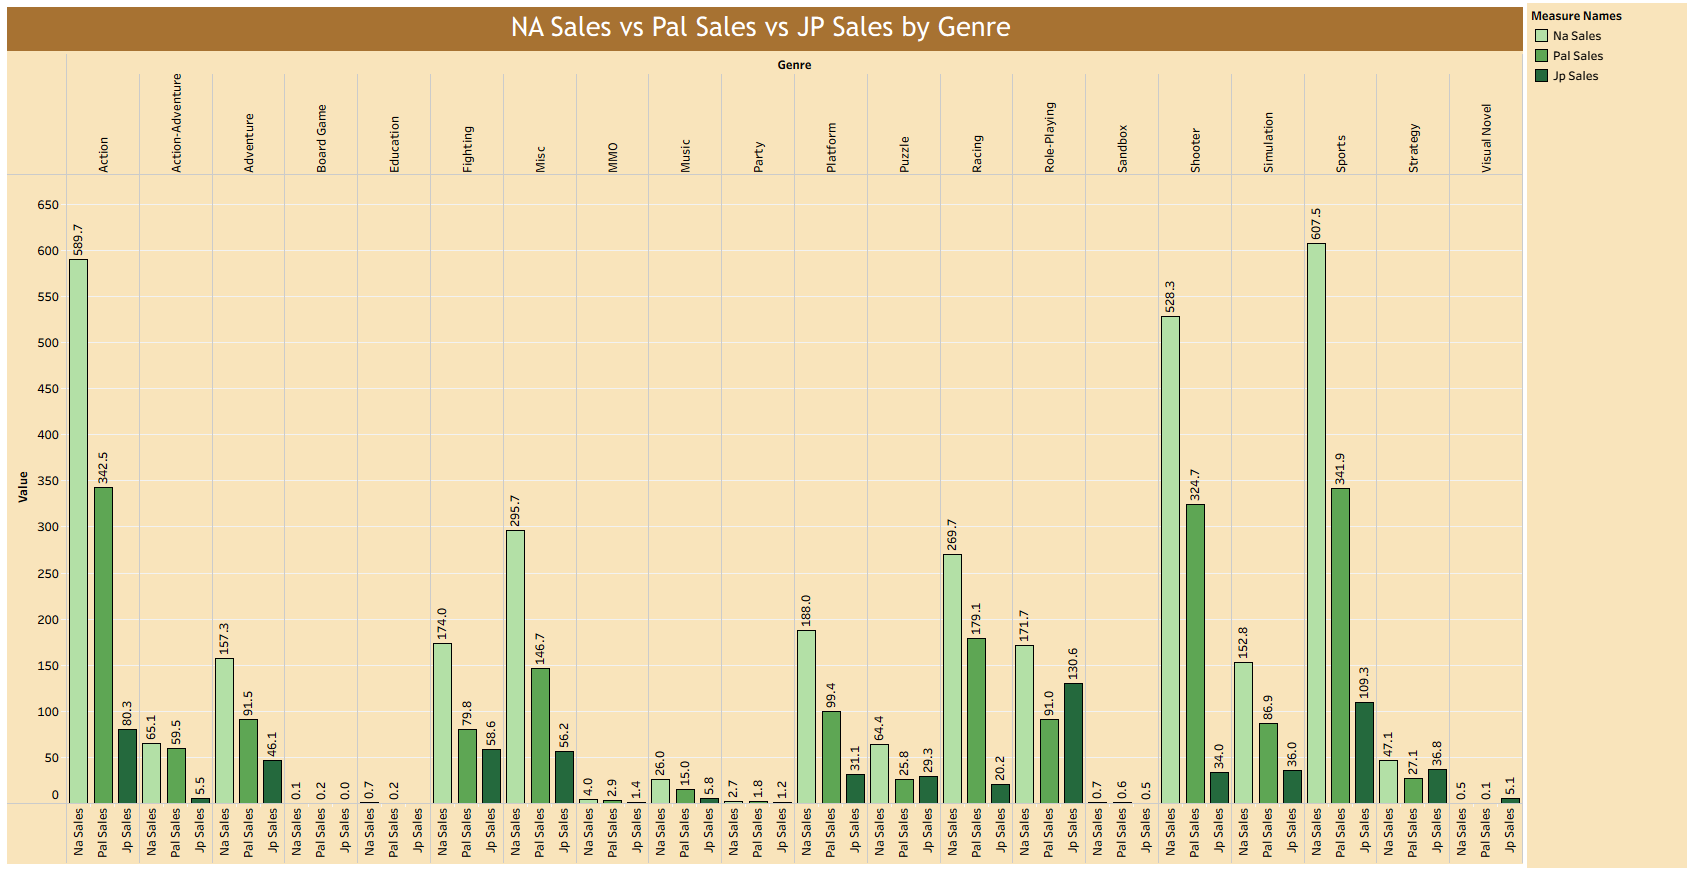

The page's visual inventory and layout, read from the dashboard file:
{"tool":"tableau","page":{"name":"Regional Sales Analysis","canvas":[1700,881],"ordinal":1},"visuals":[{"type":"worksheet","title":"NA Sales vs Pal Sales vs JP Sales by Genre ","mark":"Automatic","cols":["genre"],"box":[8,8,1524,865]},{"type":"legend","title":"NA Sales vs Pal Sales vs JP Sales by Genre ","param":"[federated.1r0g9bp1v4qgp71d3eeln0aplebd].[:Measure Names]","box":[1532,8,160,86]}]}

Visuals, with their boxes in screenshot pixels (x1, y1, x2, y2), scaled from the page's 1700x881 canvas onto the 1695x874 screenshot:
"NA Sales vs Pal Sales vs JP Sales by Genre " worksheet: [8, 8, 1527, 866]
"NA Sales vs Pal Sales vs JP Sales by Genre " legend: [1527, 8, 1687, 93]
